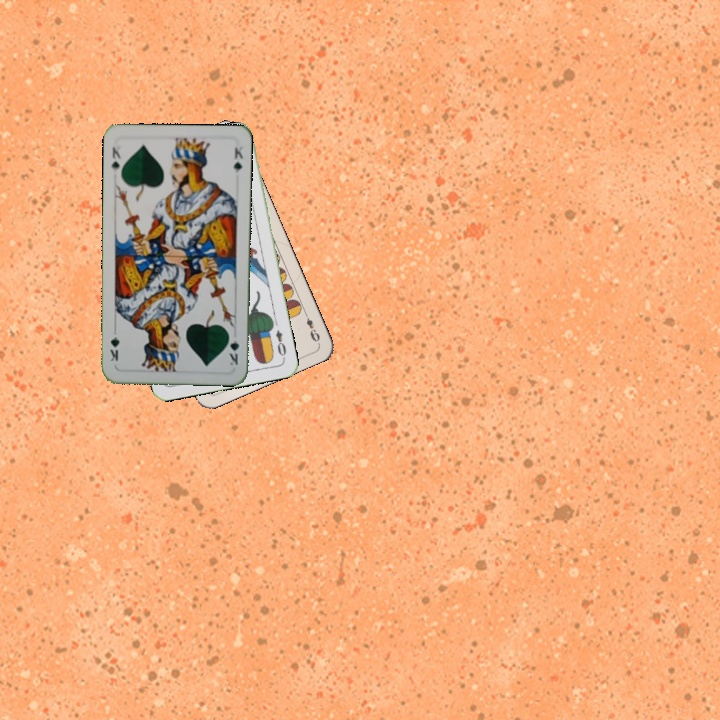E9: (300, 307, 322, 344)
EO: (272, 326, 289, 362)
GK: (225, 329, 242, 368), (107, 143, 124, 175)
